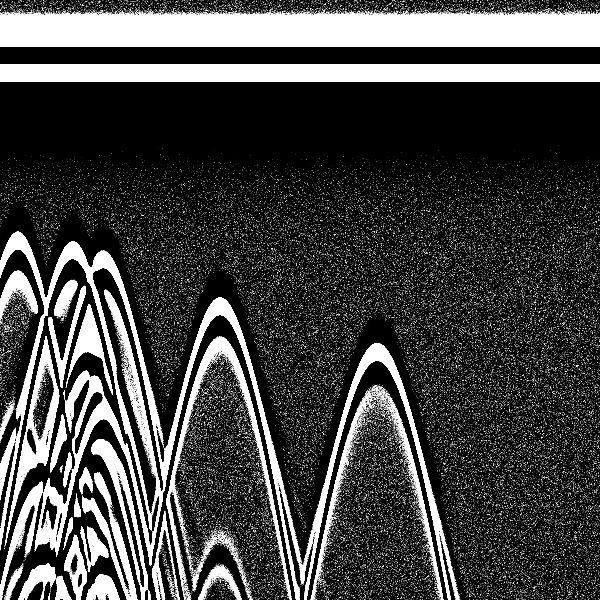pipe: (330, 5, 424, 419), (174, 8, 262, 374), (63, 4, 147, 324), (34, 4, 111, 321), (1, 5, 49, 312)
